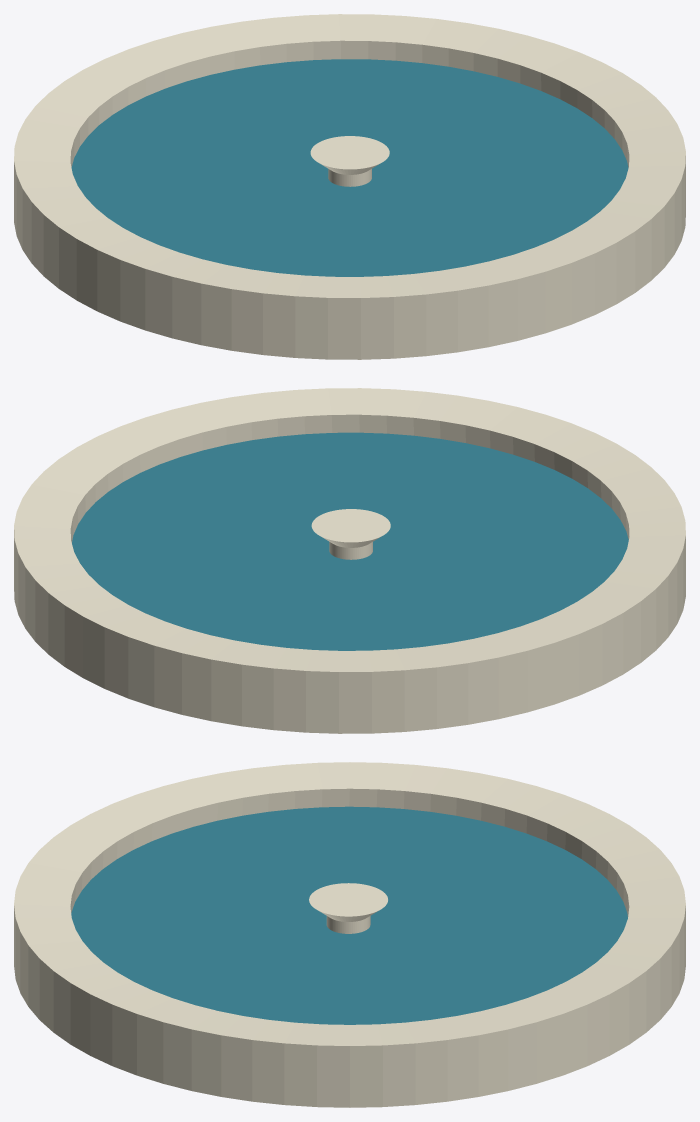
File: fauntain.glb
The picture shows the model from 3 angles, top to bottom: view 1: azimuth 30°, elevation 25°; view 2: azimuth 150°, elevation 25°; view 3: azimuth 270°, elevation 25°; orthographic projection.
Parts seen in each view (by area): view 1: fauntain; view 2: fauntain; view 3: fauntain.
Boxes of the visible parts, x1,y1,x2,y2 form: fauntain: [14, 14, 685, 359]; fauntain: [14, 388, 685, 733]; fauntain: [14, 762, 685, 1107].
Size of the model in its own units: 7.59 by 0.8185 by 7.59.
